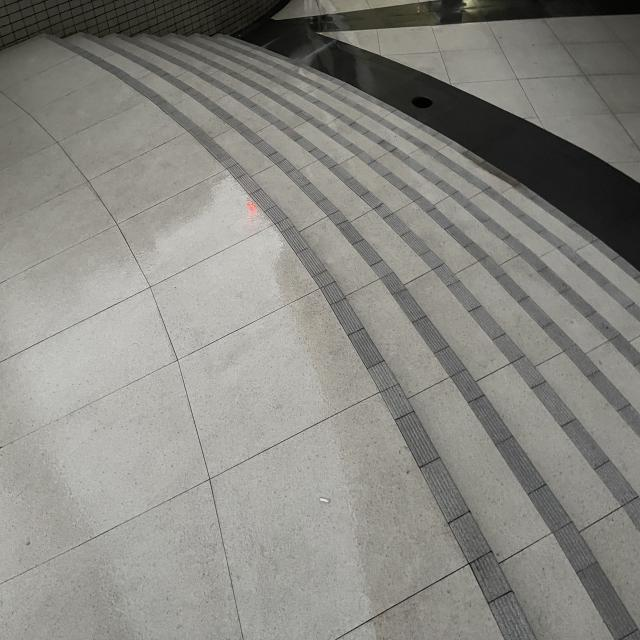Stairs: (51, 13, 640, 640)
